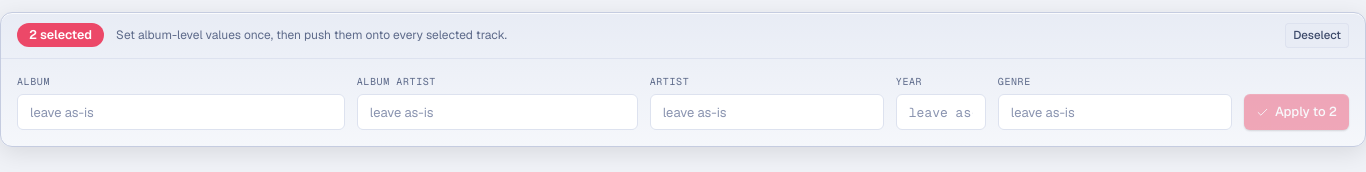
it: BulkBar › Apply button enables when at least one field is filled
This screenshot has width=1366, height=172.
FIELDS order: album, albumartist, artist, year, genre — index 0 is album
Type "My Album" into the field with placeholder "leave as-is" at (181, 112), box [17, 94, 345, 130]
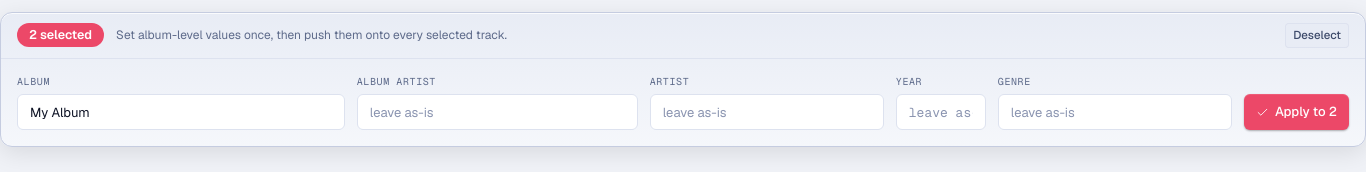
Result: the button "Apply to 2" is enabled at [1244, 94, 1349, 130]
